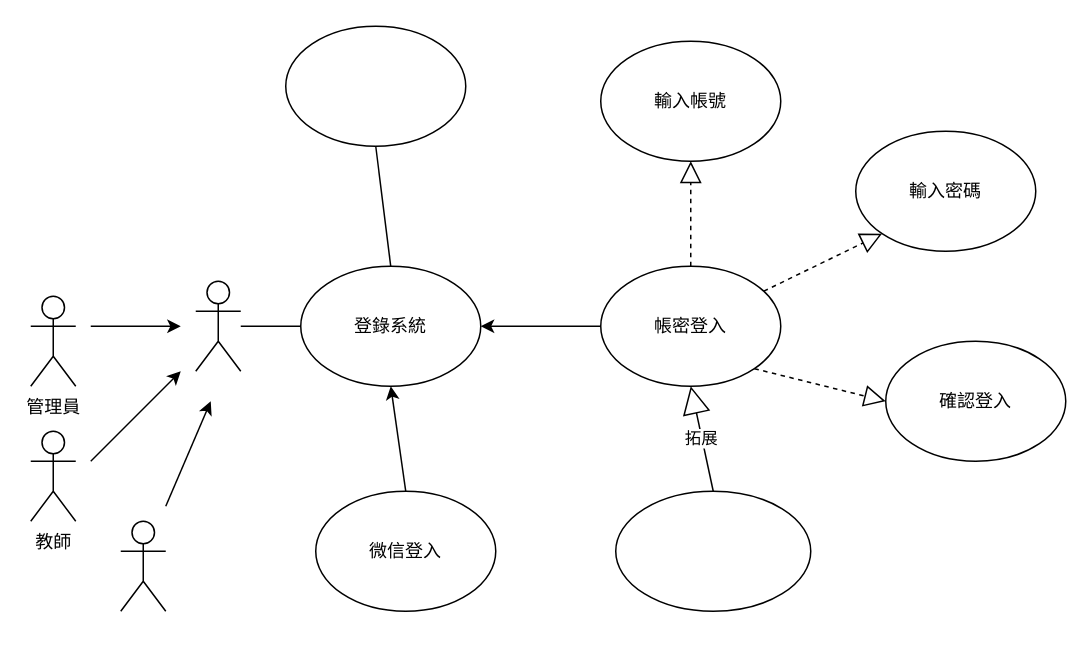
The diagram is 1092 pixels wide and 669 high, and some of its shapes have lost their labels. Each missing label, with the centre of its shape:
"學生" goes at (142,565).
"展示首頁" goes at (375,85).
"忘記密碼" goes at (712,550).
"用戶" goes at (217,325).
